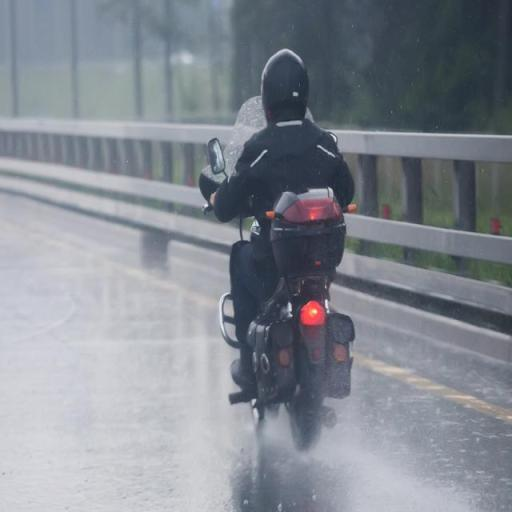Helmet: (261, 49, 308, 119)
Motor: (230, 188, 354, 448)
